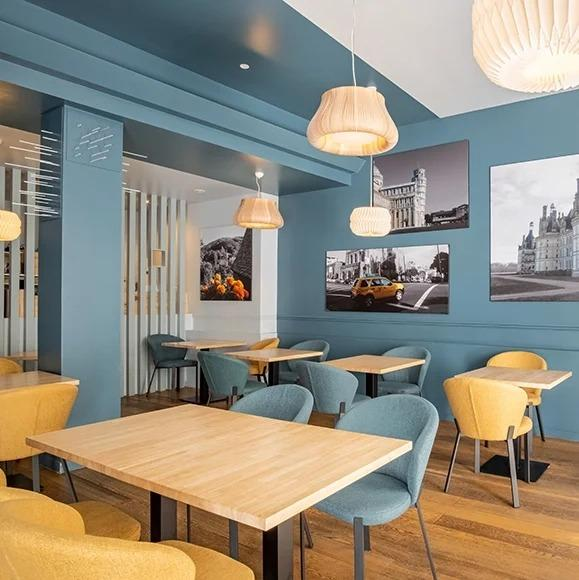Clean Table: (49, 371, 426, 542)
